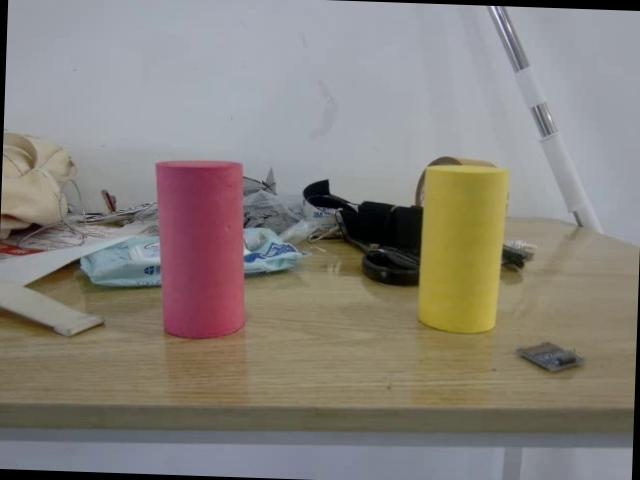red_cylinder: (150, 158, 251, 342)
yellow_cylinder: (416, 162, 508, 335)
